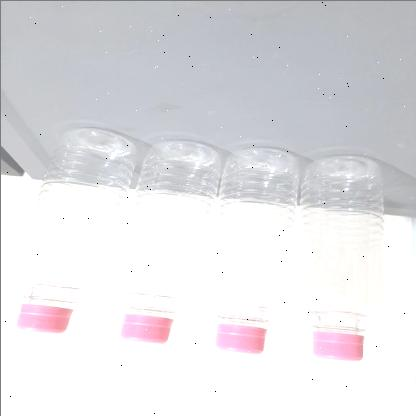Plastic Bottle: (13, 127, 134, 333), (114, 139, 218, 343), (212, 146, 298, 354), (300, 154, 384, 360)
